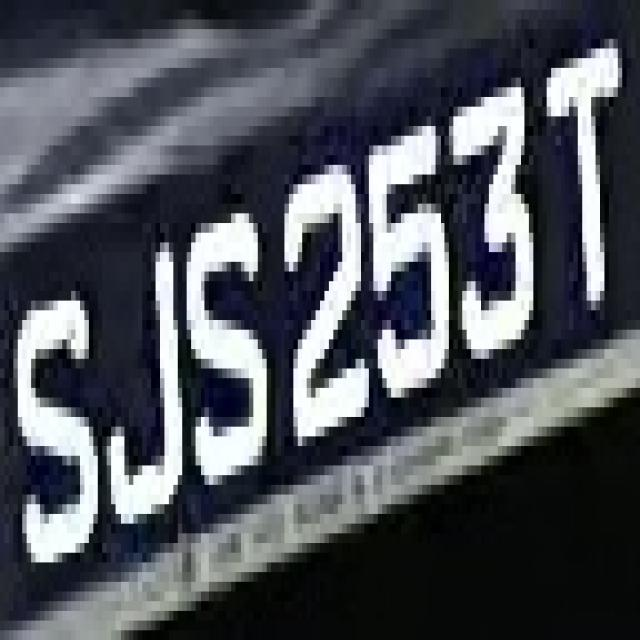2: (271, 136, 373, 465)
3: (440, 68, 542, 368)
5: (369, 88, 453, 408)
J: (98, 214, 200, 534)
S: (13, 272, 107, 562), (186, 184, 266, 495)
T: (533, 29, 631, 320)
